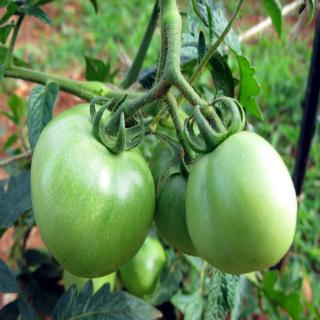tomato: (30, 91, 156, 279), (183, 96, 294, 276), (149, 125, 216, 267)
